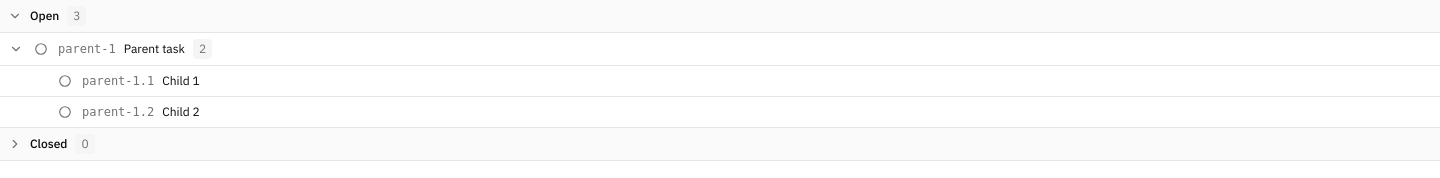
Test: TaskList › non-epic parent tasks › allows toggling non-epic parent tasks
Expected: the text "Parent task" is shown, [124,41,185,57]
Expected: the text "Child 1" is shown, [162,73,200,89]
// Click chevron to collapse
Click the button named "Collapse subtasks" at (16, 49), box [7,40,25,58]
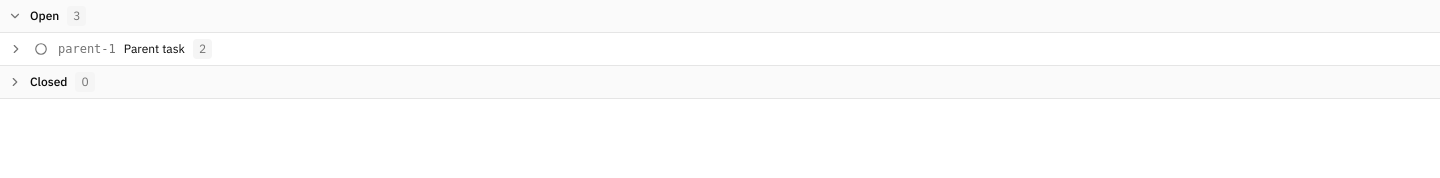
Now the button "Child 1" is gone
Now the button "Child 2" is gone
// Click again to expand
Click the button named "Expand subtasks" at (16, 49), box [7,40,25,58]
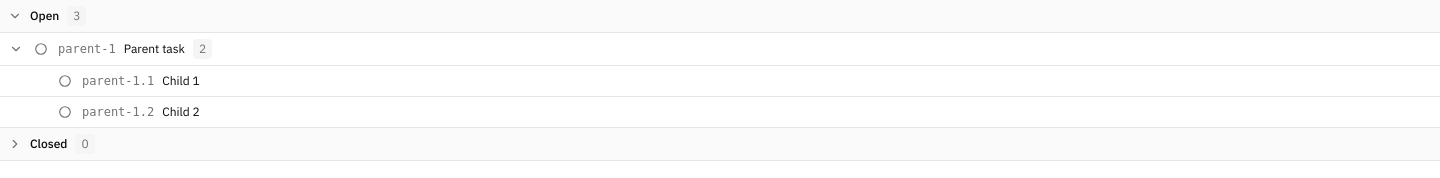
Now the text "Child 1" is shown, box [162,73,200,89]
Now the text "Child 2" is shown, box [162,104,200,120]
